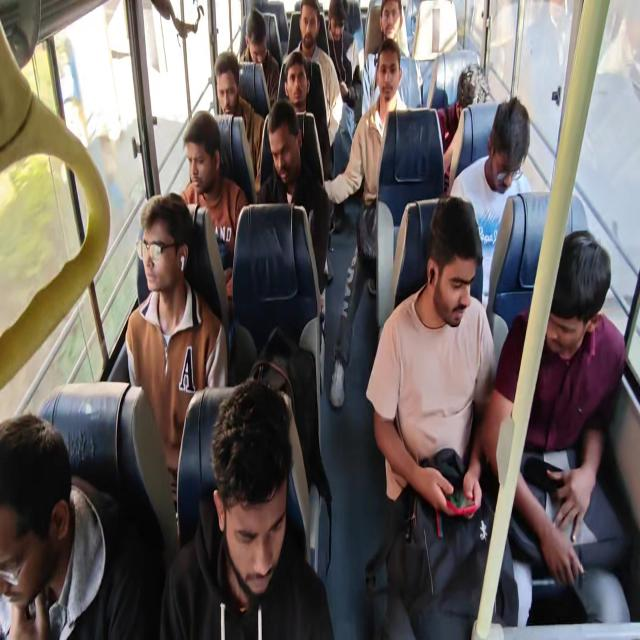person: (206, 431, 296, 594), (0, 420, 72, 598), (417, 236, 480, 340), (542, 267, 594, 371), (133, 210, 184, 302), (179, 125, 219, 196), (369, 55, 413, 119), (204, 54, 250, 114), (489, 116, 520, 200), (263, 110, 303, 174), (234, 11, 270, 63), (452, 66, 486, 115), (374, 0, 404, 43), (282, 59, 308, 103), (297, 5, 323, 42), (329, 3, 346, 43)
